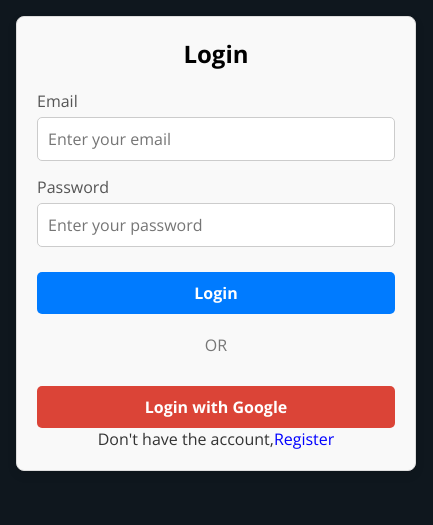
Test: LoginForm Component › displays error message on failed email login
# Simulate filling in the email and password
Type "incorrectemail@example.com" into the field labelled "Email" at x=216, y=139, box left=37, top=117, right=395, bottom=161
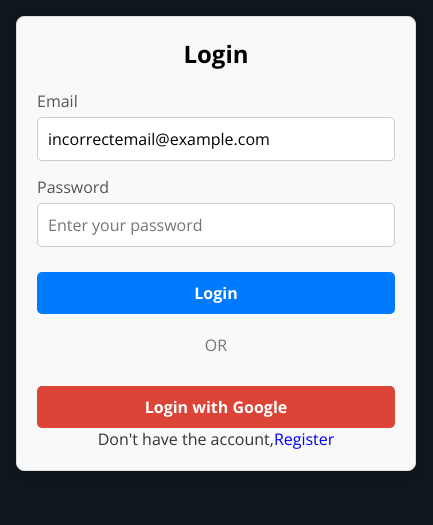
Type "wrongpassword" into the password field labelled "Password" at x=216, y=225, box left=37, top=203, right=395, bottom=247
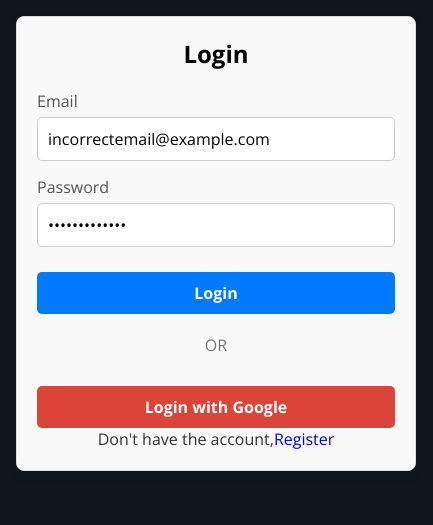
# Simulate the form submission
Click the button with test id "login-button" at x=216, y=293, box left=37, top=272, right=395, bottom=314
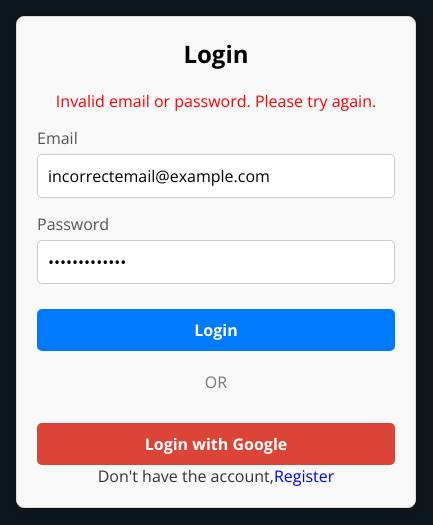
Expected: the text "Invalid email or password. Please try again." is shown, left=37, top=90, right=395, bottom=112
